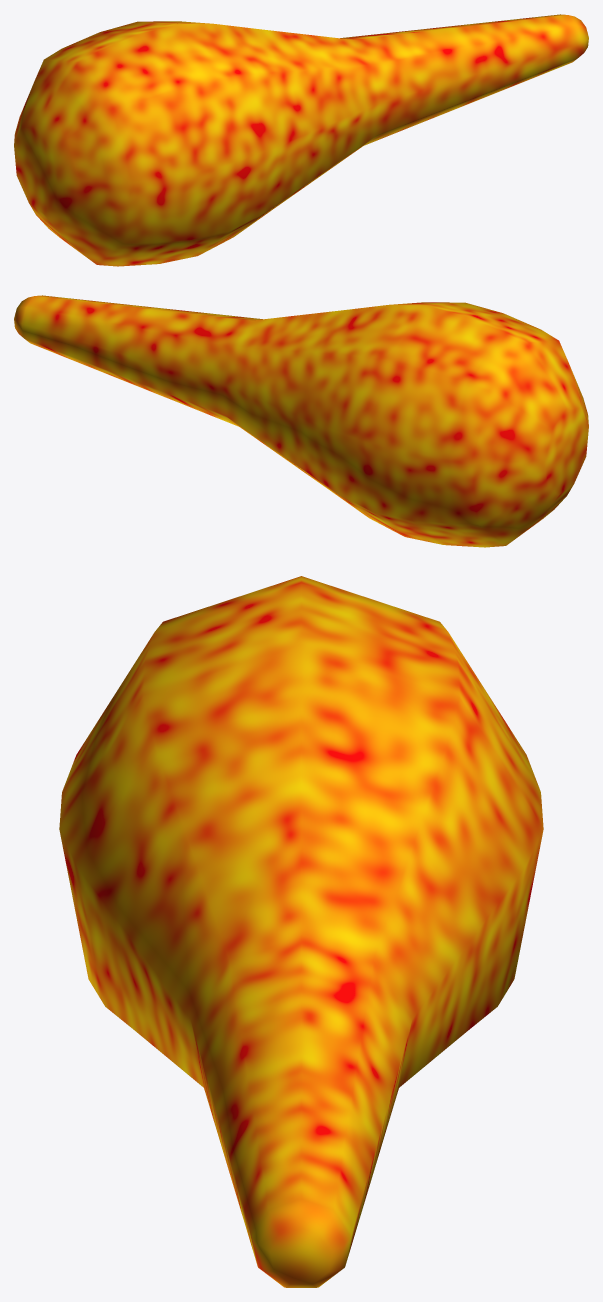
The model's file is Clostrodium.fbx.
3 renders of one model, top to bottom at view 1: azimuth 30°, elevation 25°; view 2: azimuth 150°, elevation 25°; view 3: azimuth 270°, elevation 25°, orthographic. The views are drawn at different scales.
Visible parts, largest first — view 1: Clostridium1; view 2: Clostridium1; view 3: Clostridium1.
Part boxes in pixels (box(x1,y1,x2,y2)): Clostridium1: box(14, 14, 588, 266); Clostridium1: box(14, 295, 588, 547); Clostridium1: box(59, 576, 543, 1287).
Bounding box in the file's own units: 113 × 42.8 × 43.46.
Materials: 1 (1 with a texture image).
